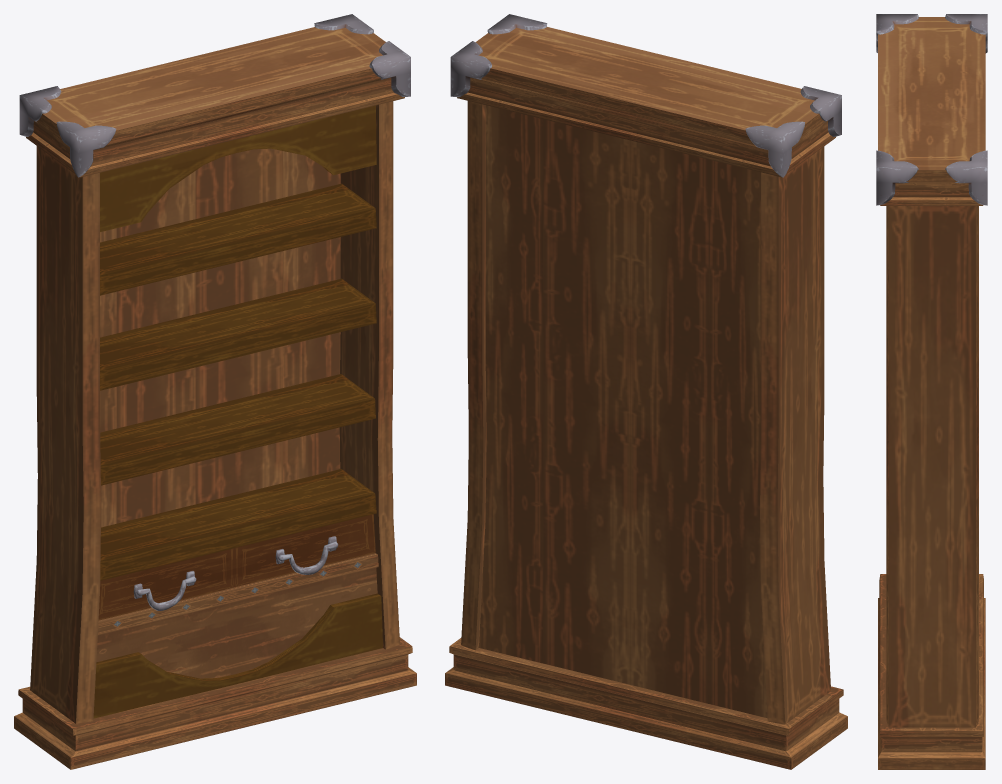
File: Bookcase_2.glb
3 renders of one model, left to right at view 1: azimuth 30°, elevation 25°; view 2: azimuth 150°, elevation 25°; view 3: azimuth 270°, elevation 25°, orthographic. The views are drawn at different scales.
Visible parts, largest first — view 1: Bookcase_2; view 2: Bookcase_2; view 3: Bookcase_2.
Part boxes in pixels (bbox=[...]): Bookcase_2: bbox=[14, 14, 416, 769]; Bookcase_2: bbox=[445, 14, 847, 769]; Bookcase_2: bbox=[876, 14, 987, 769].
Size of the model in its own units: 1.46 by 2.54 by 0.429.
2 materials, 2 textured.
